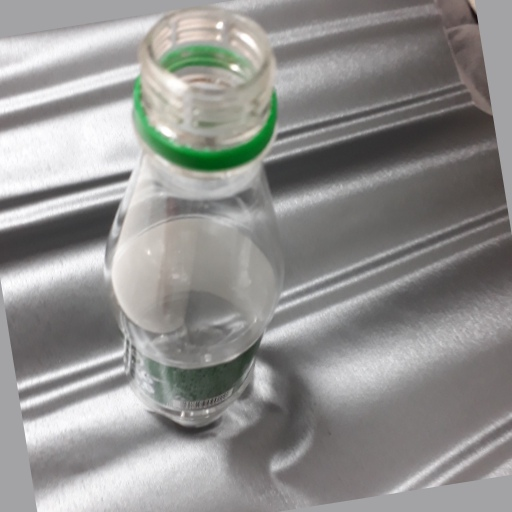Plastic_0: (101, 9, 286, 434)
